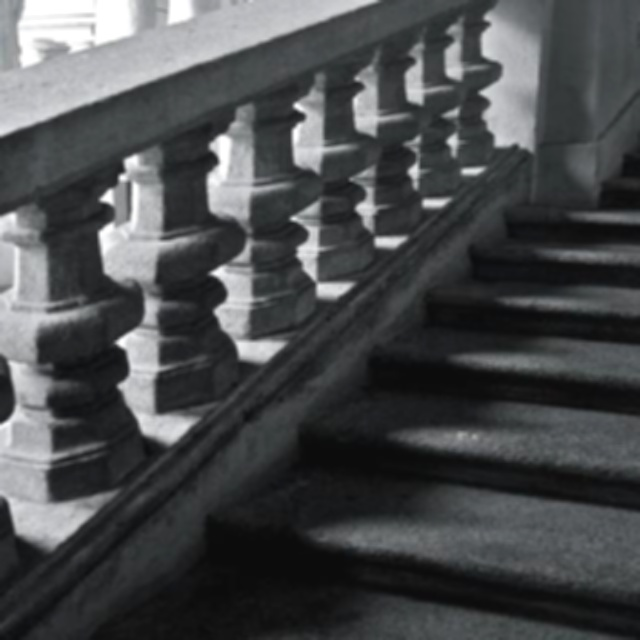stair: (91, 137, 640, 638)
